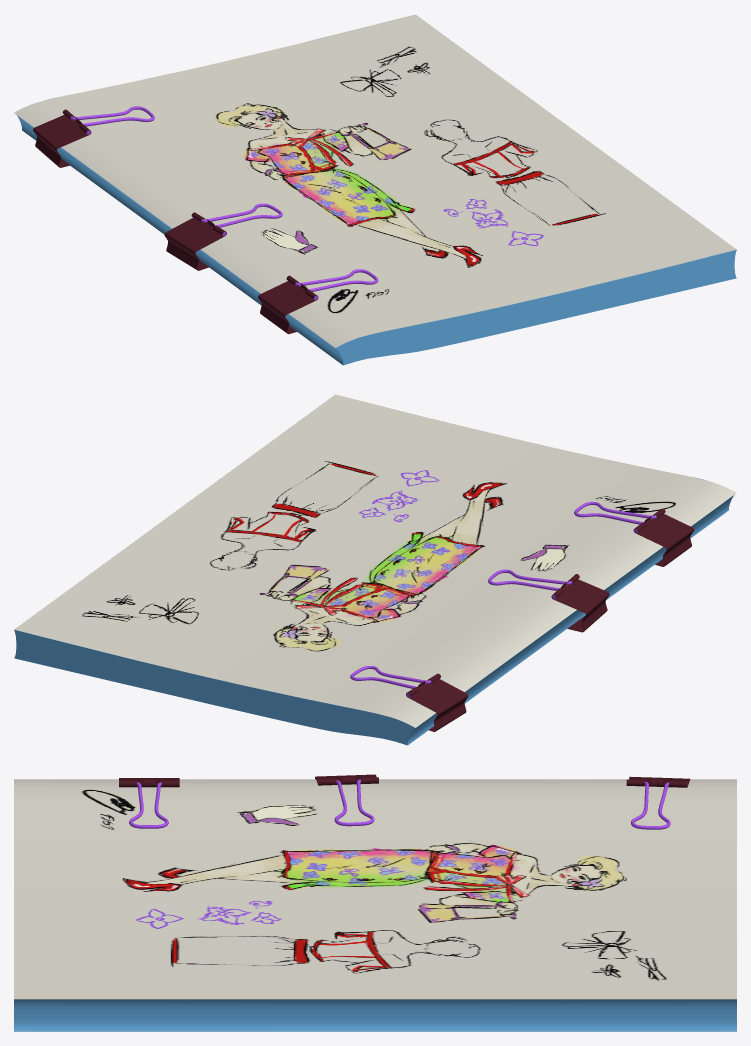
The model's file is paper block clipped.FBX.
The picture shows the model from 3 angles, top to bottom: view 1: azimuth 30°, elevation 25°; view 2: azimuth 150°, elevation 25°; view 3: azimuth 270°, elevation 25°; orthographic projection. The views are drawn at different scales.
Visible parts, largest first — view 1: object_48, object_46, object_56, object_52, object_59, object_60, object_49, object_53; view 2: object_48, object_46, object_59, object_52, object_56, object_53, object_49, object_60; view 3: object_48, object_46, object_59, object_56, object_52, object_60, object_53, object_49.
Part boxes in pixels (bbox=[...]): object_48: bbox=[14, 14, 736, 347]; object_46: bbox=[16, 36, 736, 365]; object_56: bbox=[164, 212, 226, 270]; object_52: bbox=[258, 275, 318, 334]; object_59: bbox=[33, 109, 91, 167]; object_60: bbox=[70, 106, 154, 134]; object_49: bbox=[287, 269, 378, 300]; object_53: bbox=[192, 203, 282, 236]; object_48: bbox=[14, 394, 736, 727]; object_46: bbox=[14, 477, 734, 745]; object_59: bbox=[406, 673, 468, 731]; object_52: bbox=[633, 508, 693, 566]; object_56: bbox=[551, 574, 609, 632]; object_53: bbox=[488, 569, 572, 599]; object_49: bbox=[574, 501, 664, 532]; object_60: bbox=[350, 666, 439, 697]; object_48: bbox=[14, 779, 736, 999]; object_46: bbox=[14, 999, 736, 1031]; object_59: bbox=[626, 776, 690, 787]; object_56: bbox=[315, 774, 378, 785]; object_52: bbox=[119, 778, 179, 787]; object_60: bbox=[631, 781, 687, 829]; object_53: bbox=[318, 779, 374, 826]; object_49: bbox=[129, 782, 168, 828].
Bounding box in the file's own units: 220 × 297 × 21.28.
